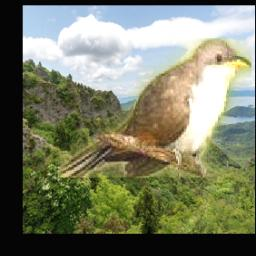Cuckoo: (59, 38, 252, 178)
